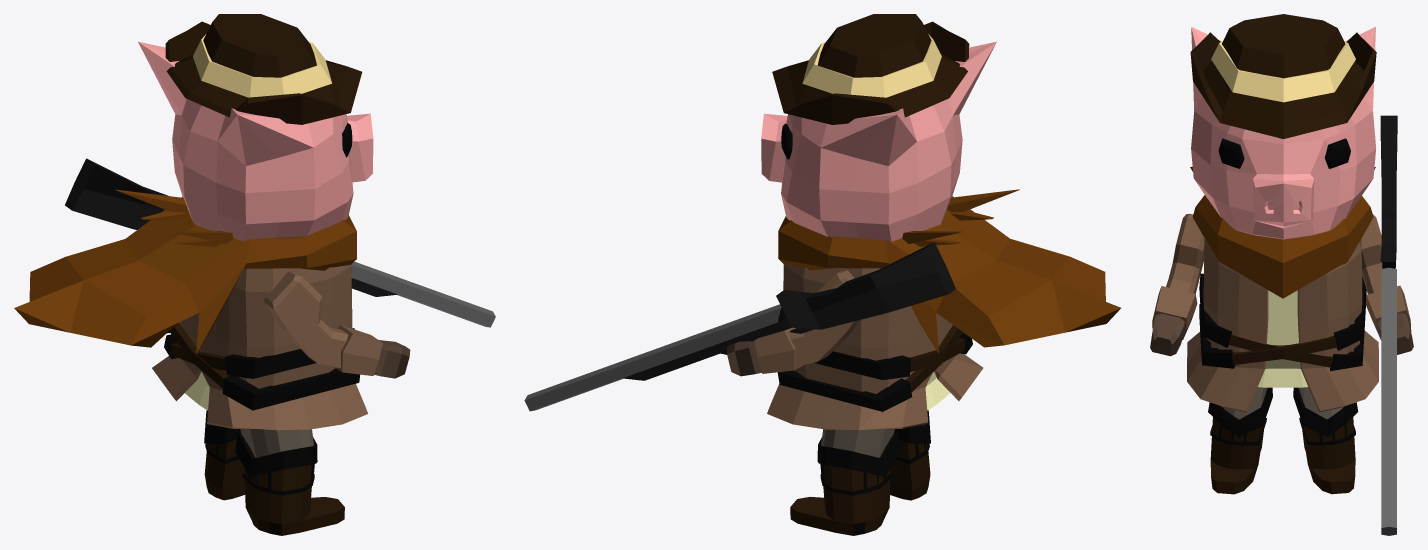
File: headhunter.glb
The picture shows the model from 3 angles, left to right: view 1: azimuth 30°, elevation 25°; view 2: azimuth 150°, elevation 25°; view 3: azimuth 270°, elevation 25°; orthographic projection. The views are drawn at different scales.
Visible parts, largest first — view 1: headhunter; view 2: headhunter; view 3: headhunter.
Boxes of the visible parts, left/top/right/bottom form: headhunter: left=14, top=14, right=495, bottom=535; headhunter: left=524, top=14, right=1120, bottom=535; headhunter: left=1150, top=14, right=1413, bottom=535.
Bounding box in the file's own units: 6.25 × 5.29 × 2.88.
Materials: 9 (2 with a texture image).
